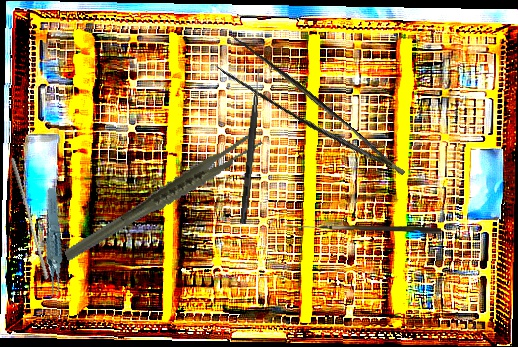Hook Surgical: (240, 65, 262, 225), (285, 225, 441, 234)
Pusher: (5, 156, 54, 281)
Tissue Forceps: (209, 29, 406, 204), (48, 128, 278, 264), (23, 186, 80, 305)
